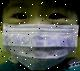with_mask: (1, 2, 80, 71)
